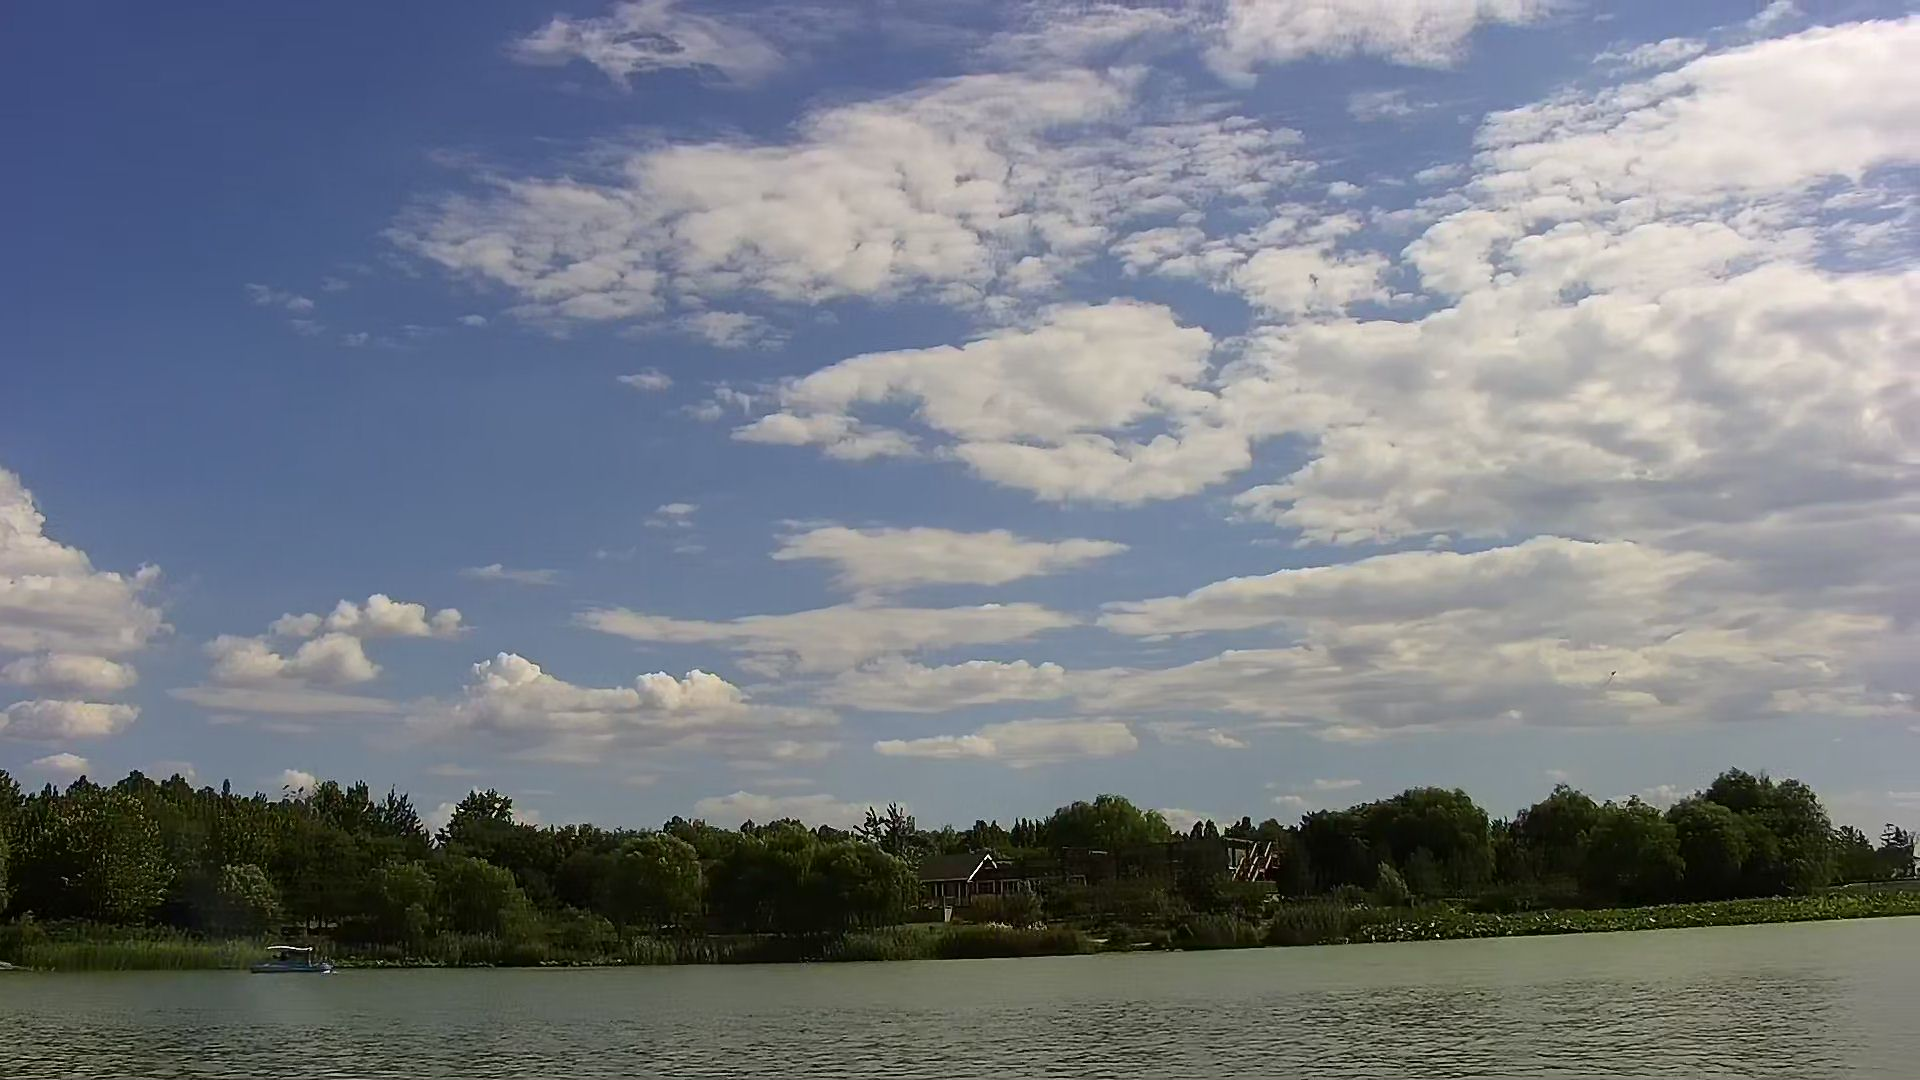boat: (245, 939, 338, 982)
